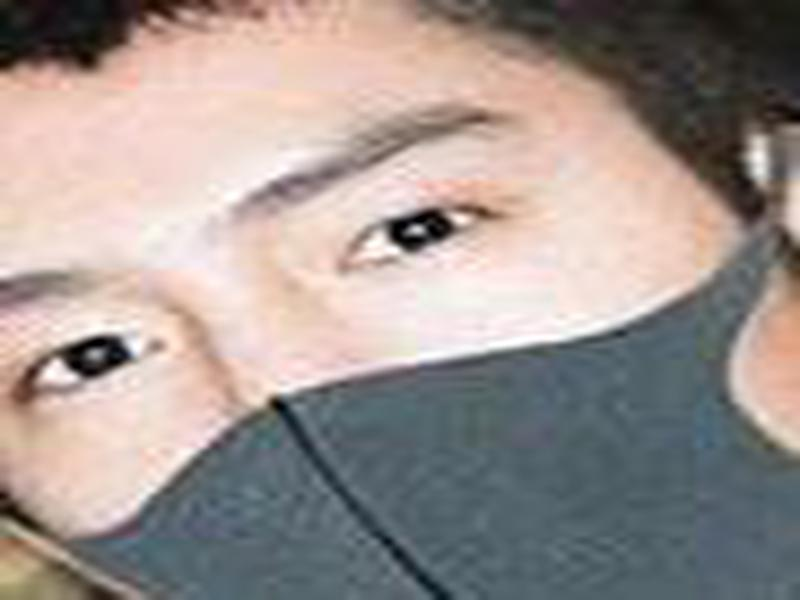with_mask: (1, 9, 800, 600)
